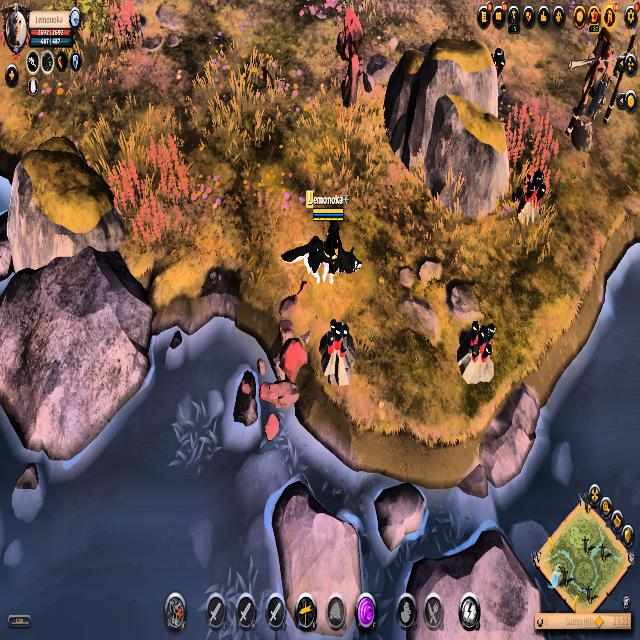ore tier 5: (453, 313, 497, 389), (318, 319, 362, 388), (514, 167, 548, 232)
